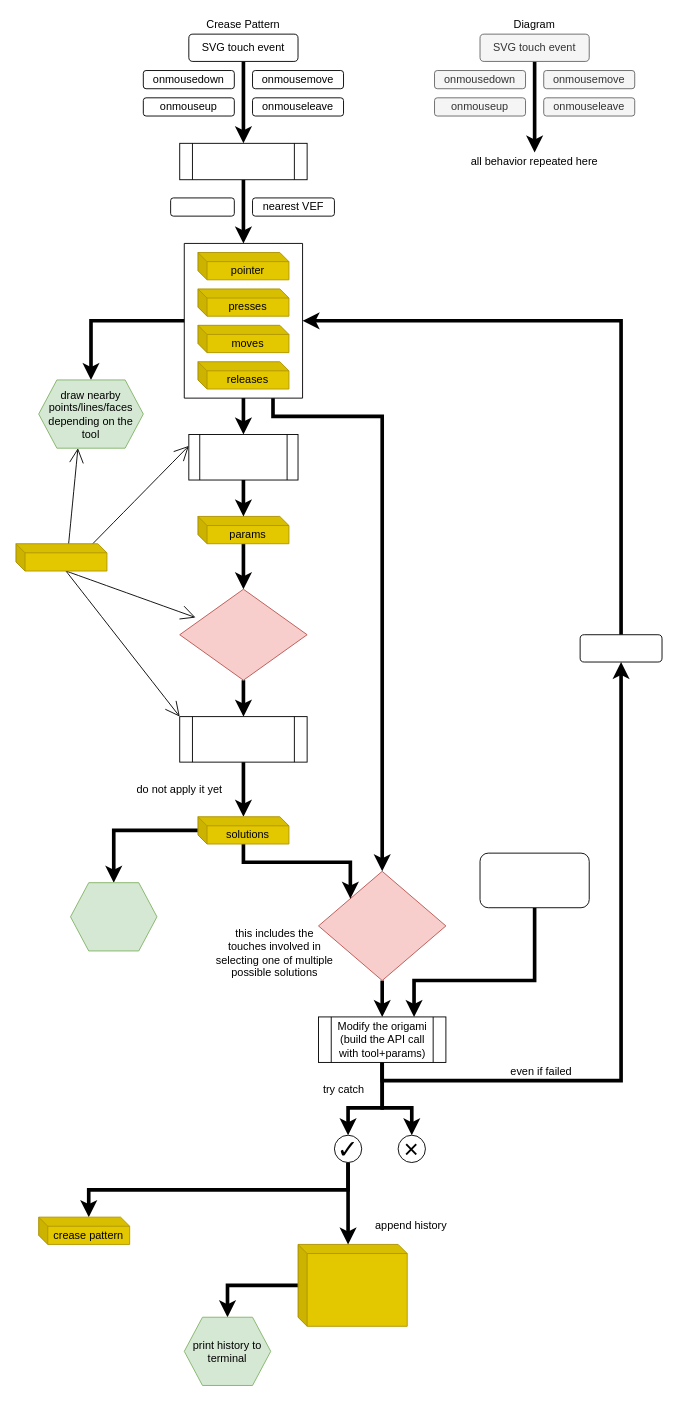
Image size: 678x1401. Some labels were removed from this diagram. Each missing label, with the centre of its shape:
calculate solutions (given current parameters): [243,739]
clear touches: [620,648]
coordinates (relative to origami): [243,161]
draw solution crease lines on origami: [113,916]
history. each entry: - FOLD object - API command: [352,1285]
if # of touches satisfy activation of function: [382,925]
if the # of the parameters satisfies the tool's function: [243,634]
order and convert touches into points/lines: [243,457]
raw (x,y): [202,206]
terminal API input directly: [534,880]
tool: [61,557]
